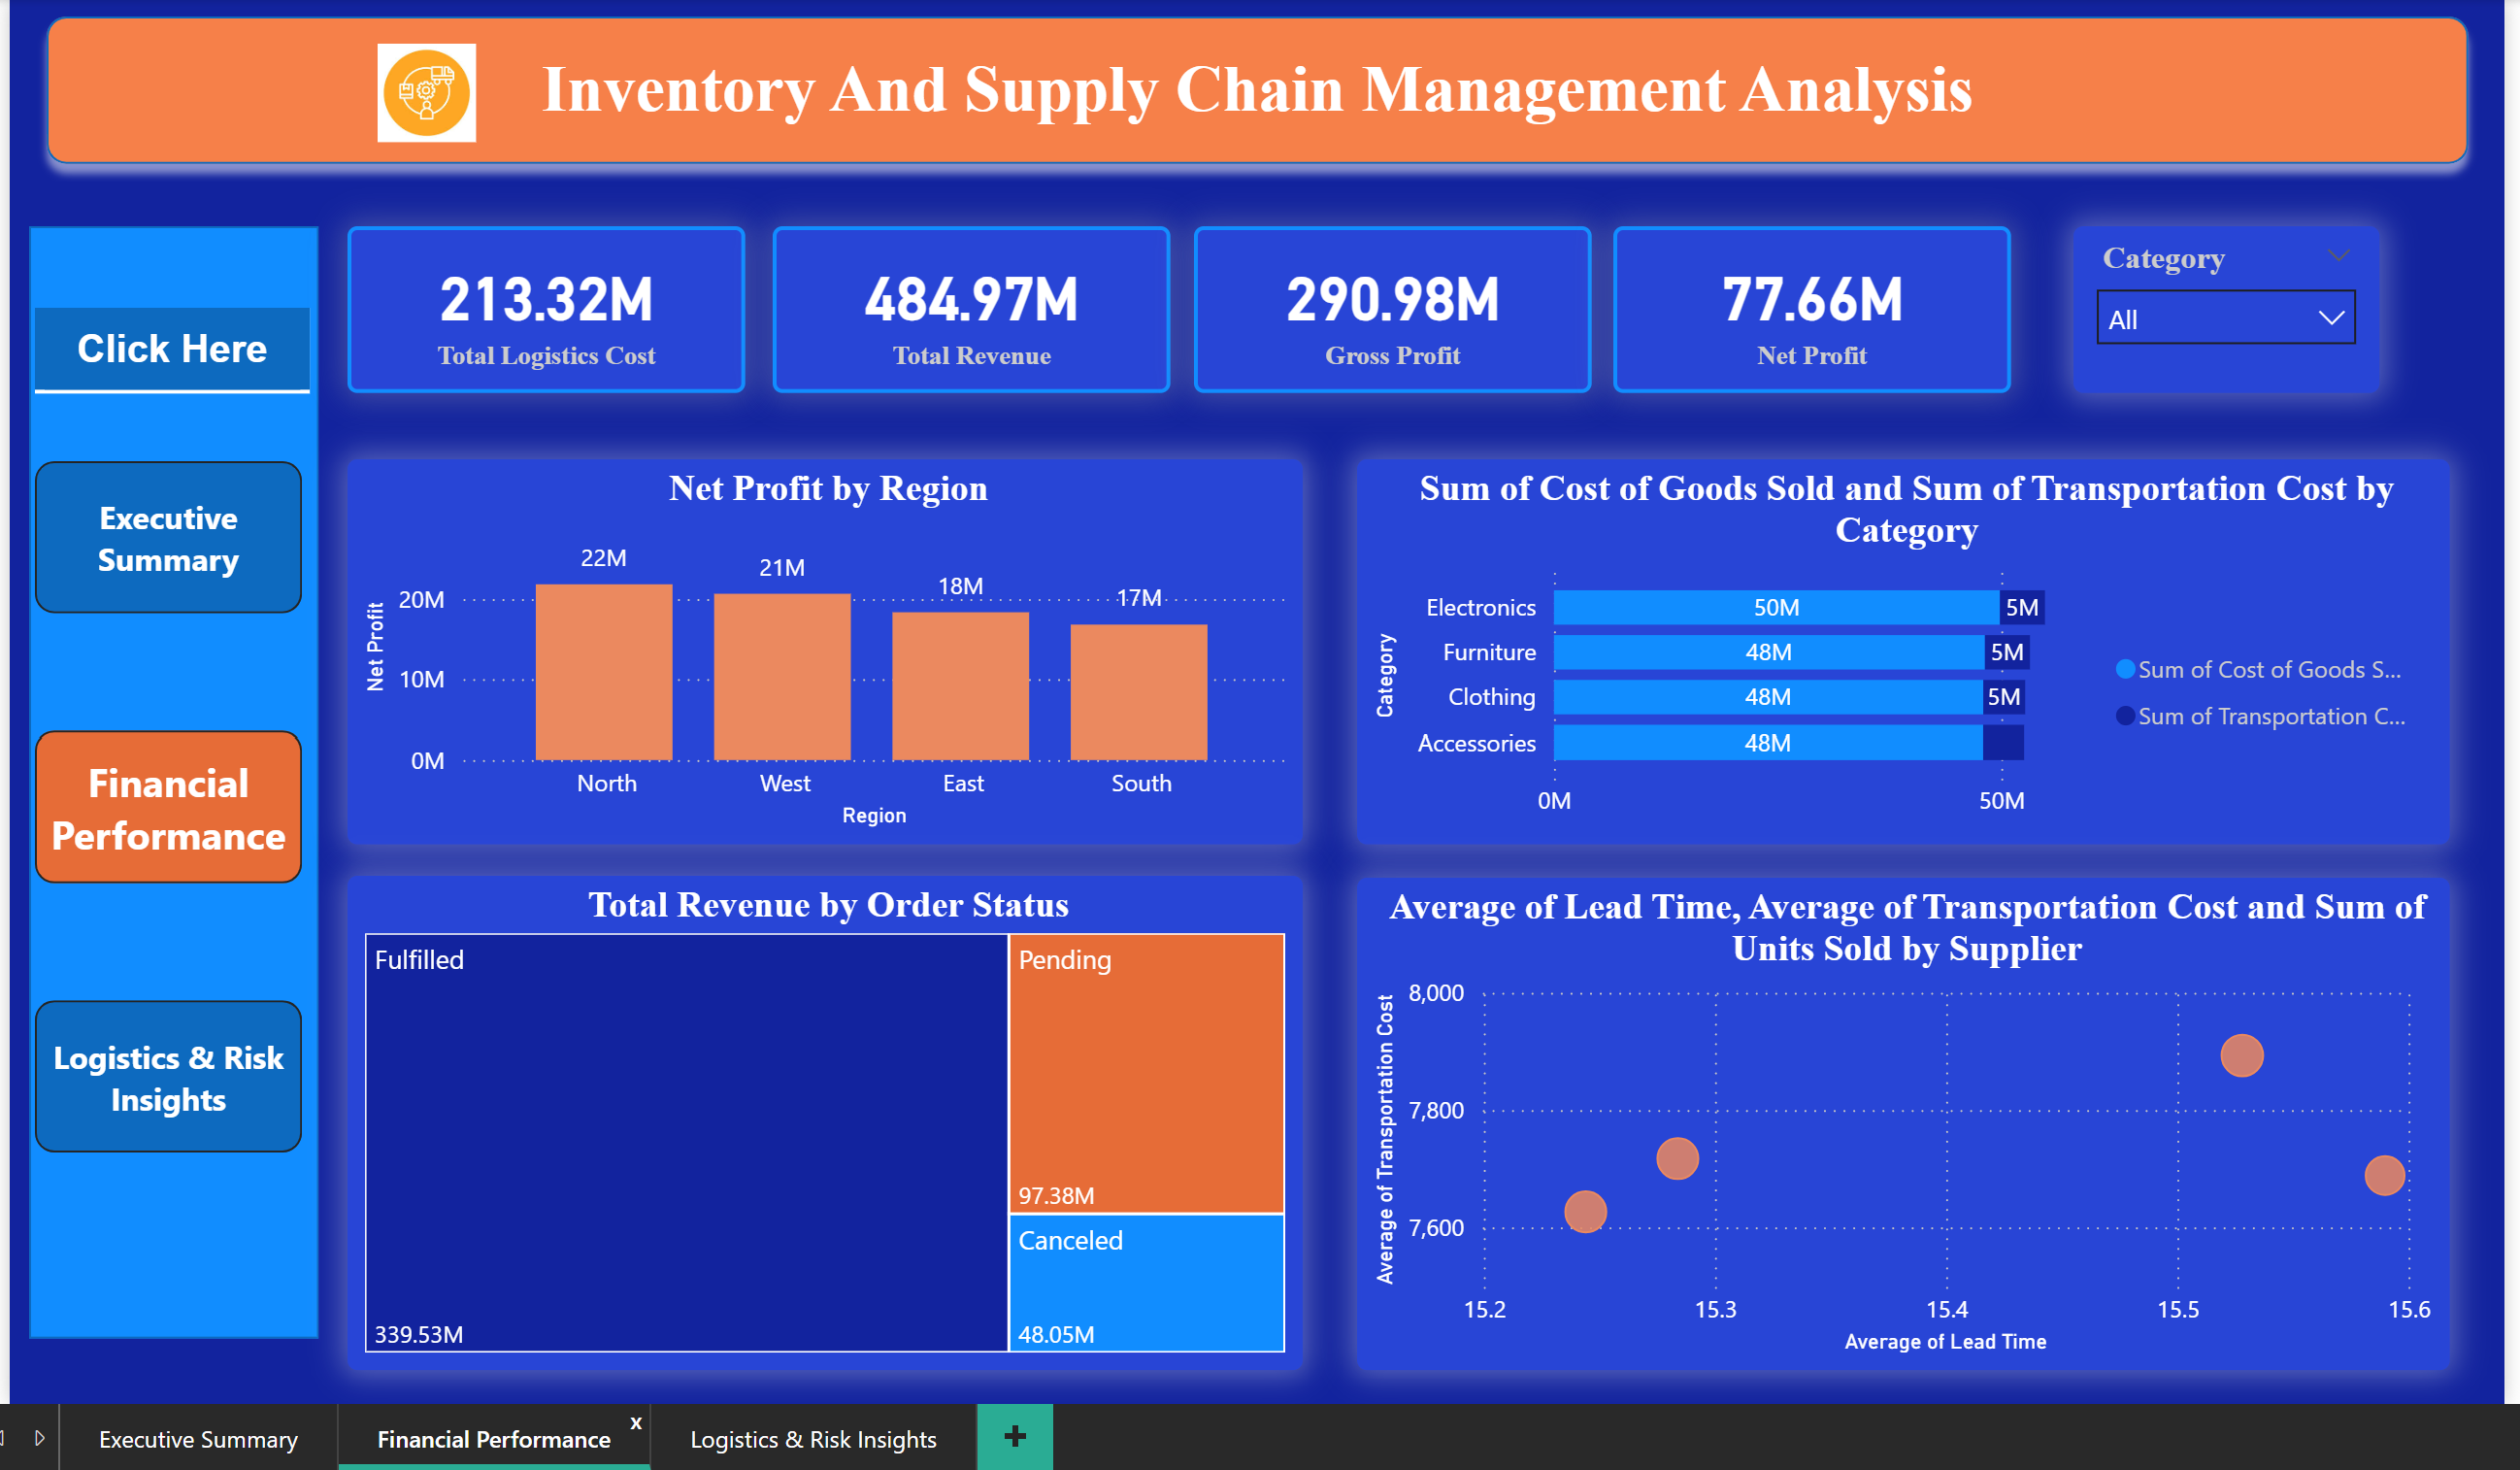

The dashboard page shown, as its layout file describes it:
{"tool":"powerbi","page":{"name":"Financial Performance","canvas":[1280,720],"ordinal":1},"visuals":[{"type":"shape","box":[9.6,116.6,148.6,570],"z":0},{"type":"shape","box":[9.9,0,1260.2,93.5],"z":1000},{"type":"card","fields":{"Values":["All Measures.Total Logistics Cost"]},"box":[173.2,116.6,204.2,85.5],"z":2000},{"type":"card","fields":{"Values":["All Measures.Total Revenue"]},"box":[391.4,116.6,204.2,85.5],"z":3000},{"type":"card","fields":{"Values":["All Measures.Gross Profit"]},"box":[607.4,116.6,204.2,85.5],"z":4000},{"type":"card","fields":{"Values":["All Measures.Net Profit"]},"box":[822.3,116.6,204.2,85.5],"z":5000},{"type":"clusteredColumnChart","fields":{"Y":["All Measures.Net Profit"],"Category":["Inventory and SupplyChain Dataset.Region"]},"box":[173.2,236.3,489.8,196.8],"z":6000},{"type":"barChart","fields":{"Category":["Inventory and SupplyChain Dataset.Category"],"Y":["Sum(Inventory and SupplyChain Dataset.Cost of Goods Sold)","Sum(Inventory and SupplyChain Dataset.Transportation Cost)"]},"box":[690.8,236.3,560.3,196.8],"z":7000},{"type":"treemap","fields":{"Group":["Inventory and SupplyChain Dataset.Order Status"],"Values":["All Measures.Total Revenue"]},"box":[173.2,449.1,489.8,253.4],"z":8000},{"type":"scatterChart","fields":{"X":["Avg(Inventory and SupplyChain Dataset.Lead Time)"],"Y":["Avg(Inventory and SupplyChain Dataset.Transportation Cost)"],"Category":["Inventory and SupplyChain Dataset.Supplier"],"Size":["Sum(Inventory and SupplyChain Dataset.Units Sold)"]},"box":[690.8,450.2,560.3,252.4],"z":9000},{"type":"image","box":[186.1,22.5,55.6,50.3],"z":10000},{"type":"slicer","fields":{"Values":["Inventory and SupplyChain Dataset.Category"]},"box":[1058.6,116.6,157.2,85.5],"z":11000},{"type":"textbox","title":"Click Here","box":[12.6,158.7,141.1,44.1],"z":12000},{"type":"pageNavigator","box":[12.6,236.9,137.3,354],"z":13000}]}

Visuals, with their boxes on the page's 1280x720 design canvas (x1, y1, x2, y2). These are canvas units, not pixel positions in the 2520x1470 screenshot, which may show the page scaled, cropped or inside an application window:
shape: x1=10, y1=117, x2=158, y2=687
shape: x1=10, y1=0, x2=1270, y2=94
card - All Measures.Total Logistics Cost: x1=173, y1=117, x2=377, y2=202
card - All Measures.Total Revenue: x1=391, y1=117, x2=596, y2=202
card - All Measures.Gross Profit: x1=607, y1=117, x2=812, y2=202
card - All Measures.Net Profit: x1=822, y1=117, x2=1026, y2=202
clusteredColumnChart - All Measures.Net Profit x Inventory and SupplyChain Dataset.Region: x1=173, y1=236, x2=663, y2=433
barChart - Inventory and SupplyChain Dataset.Category x Sum(Inventory and SupplyChain Dataset.Cost of Goods Sold): x1=691, y1=236, x2=1251, y2=433
treemap - Inventory and SupplyChain Dataset.Order Status x All Measures.Total Revenue: x1=173, y1=449, x2=663, y2=702
scatterChart - Avg(Inventory and SupplyChain Dataset.Lead Time) x Avg(Inventory and SupplyChain Dataset.Transportation Cost): x1=691, y1=450, x2=1251, y2=703
image: x1=186, y1=22, x2=242, y2=73
slicer - Inventory and SupplyChain Dataset.Category: x1=1059, y1=117, x2=1216, y2=202
"Click Here" textbox: x1=13, y1=159, x2=154, y2=203
pageNavigator: x1=13, y1=237, x2=150, y2=591
